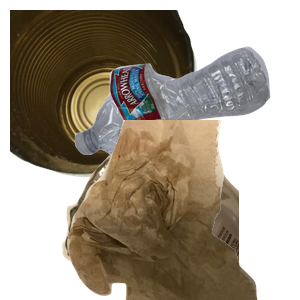glass: (60, 120, 300, 300)
metal: (10, 10, 200, 180)
plastic: (72, 44, 300, 200)
trash: (65, 120, 300, 300)
